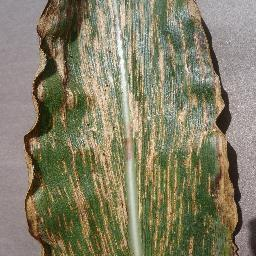Gray_Leaf_Spot: (18, 0, 247, 256)
